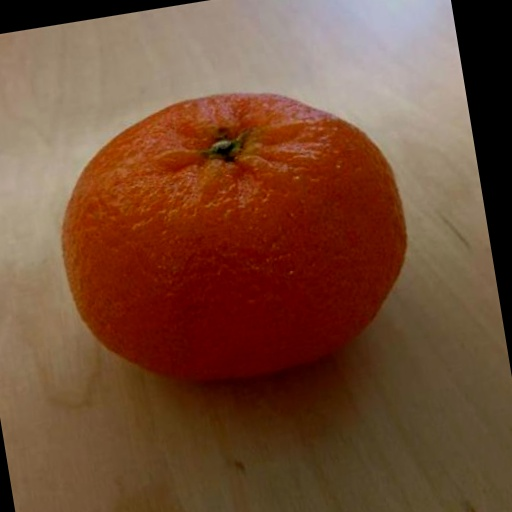fruit: (63, 94, 405, 379)
